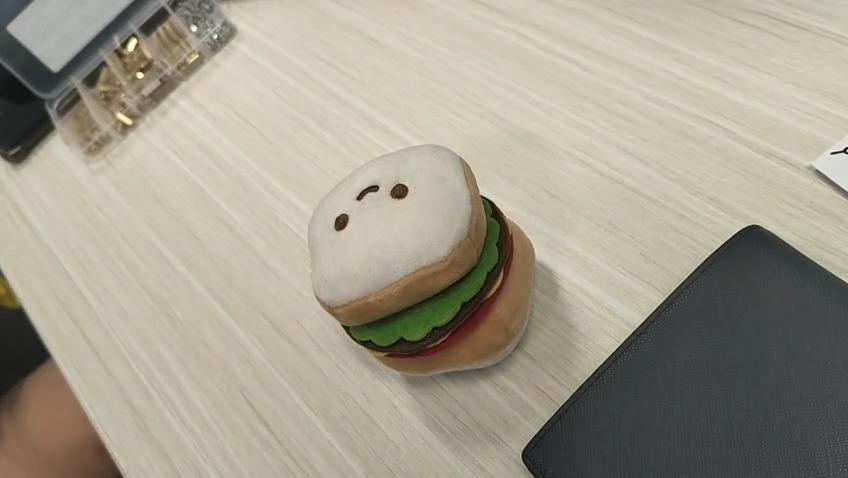objects: (301, 140, 534, 375)
